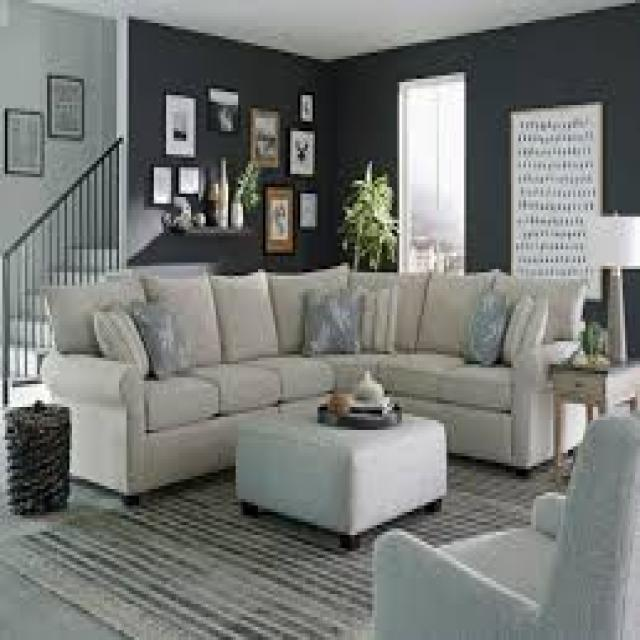Chair: (356, 396, 640, 639)
Lamp: (576, 206, 640, 364)
Sofa: (40, 239, 341, 494), (313, 254, 572, 483)
Table: (229, 376, 447, 528), (550, 334, 640, 482)
